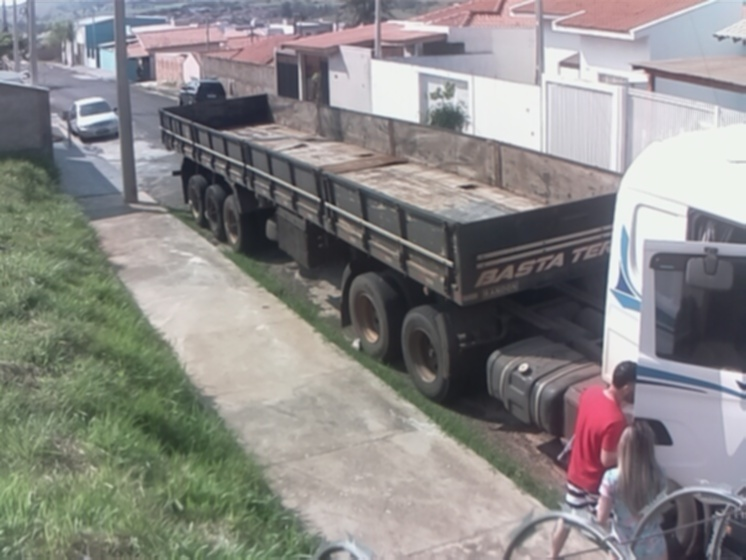person: (546, 360, 641, 560), (595, 421, 671, 560)
